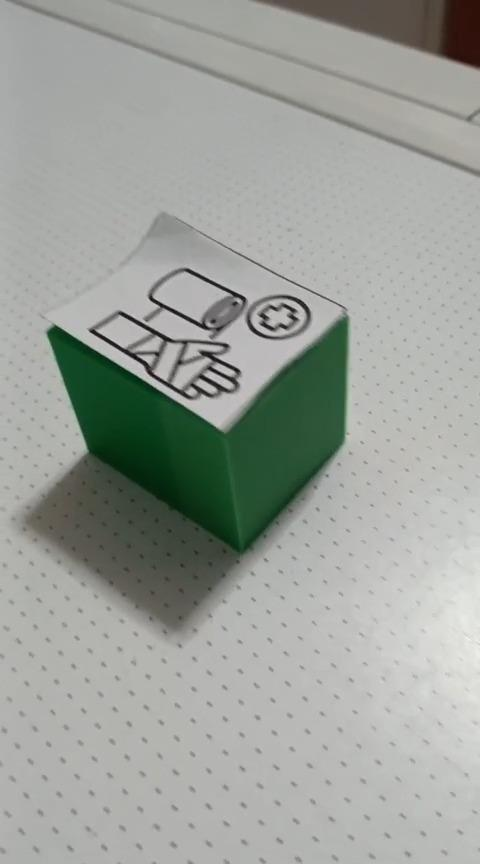Bandages: (39, 210, 350, 554)
